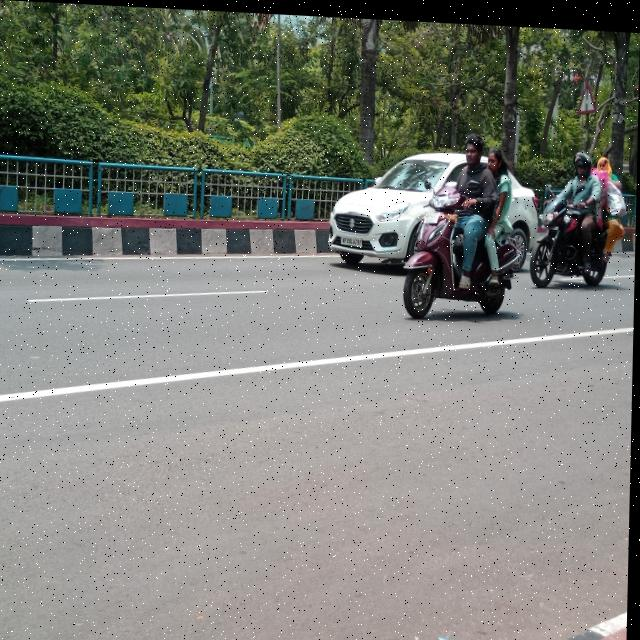bike: (397, 184, 541, 317), (532, 190, 622, 286)
car: (329, 134, 429, 261)
